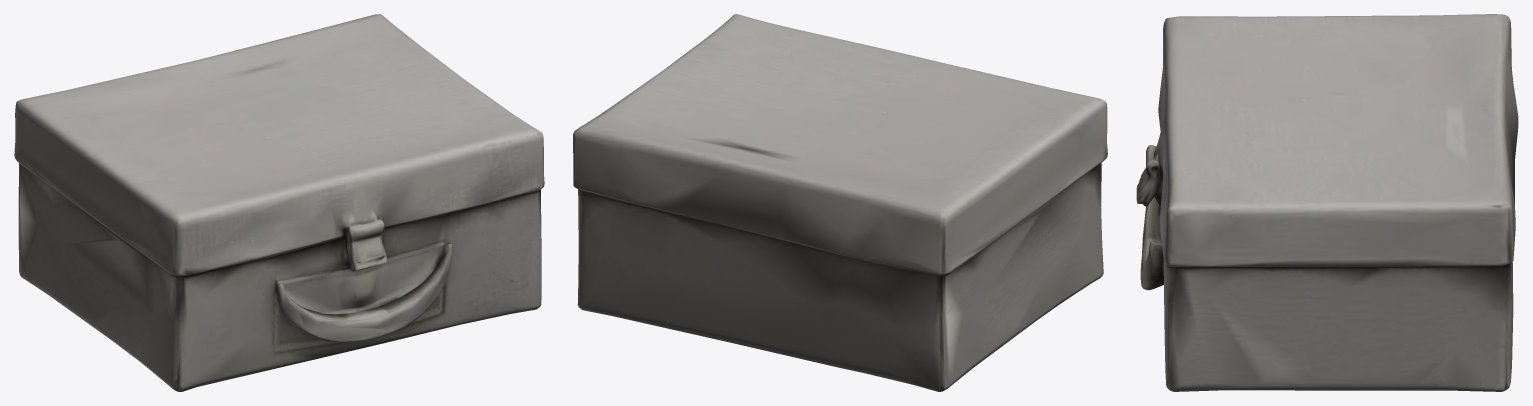
The model's file is storage-lite.glb.
The picture shows the model from 3 angles, left to right: view 1: azimuth 30°, elevation 25°; view 2: azimuth 150°, elevation 25°; view 3: azimuth 270°, elevation 25°; orthographic projection. The views are drawn at different scales.
Parts seen in each view (by area): view 1: node_0; view 2: node_0; view 3: node_0.
Boxes of the visible parts, x1,y1,x2,y2 form: node_0: (14, 14, 544, 391); node_0: (573, 14, 1107, 391); node_0: (1136, 14, 1518, 391).
Bounding box in the file's own units: 0.8998 × 0.4214 × 0.7528.
Materials: 1 (1 with a texture image).
